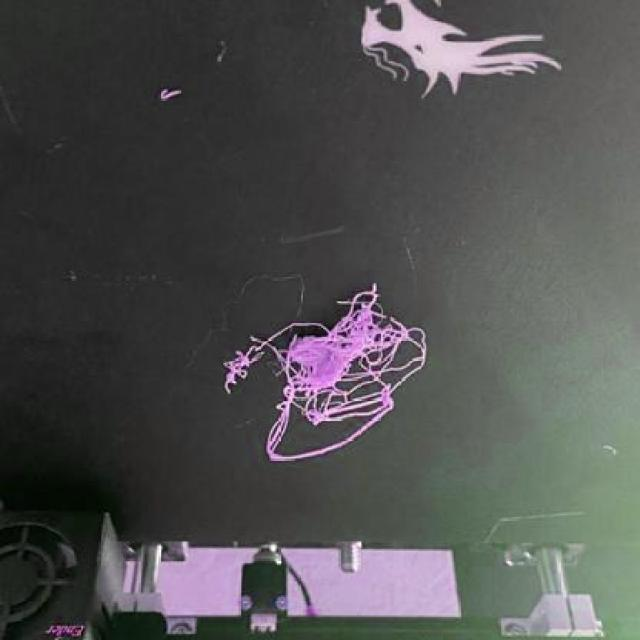Spaghetti: (224, 282, 428, 462)
